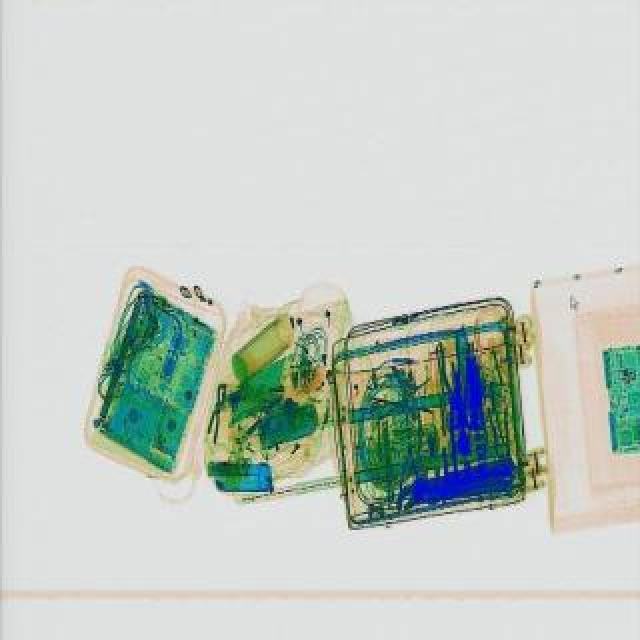wrench: (432, 326, 470, 414), (398, 436, 422, 492)
